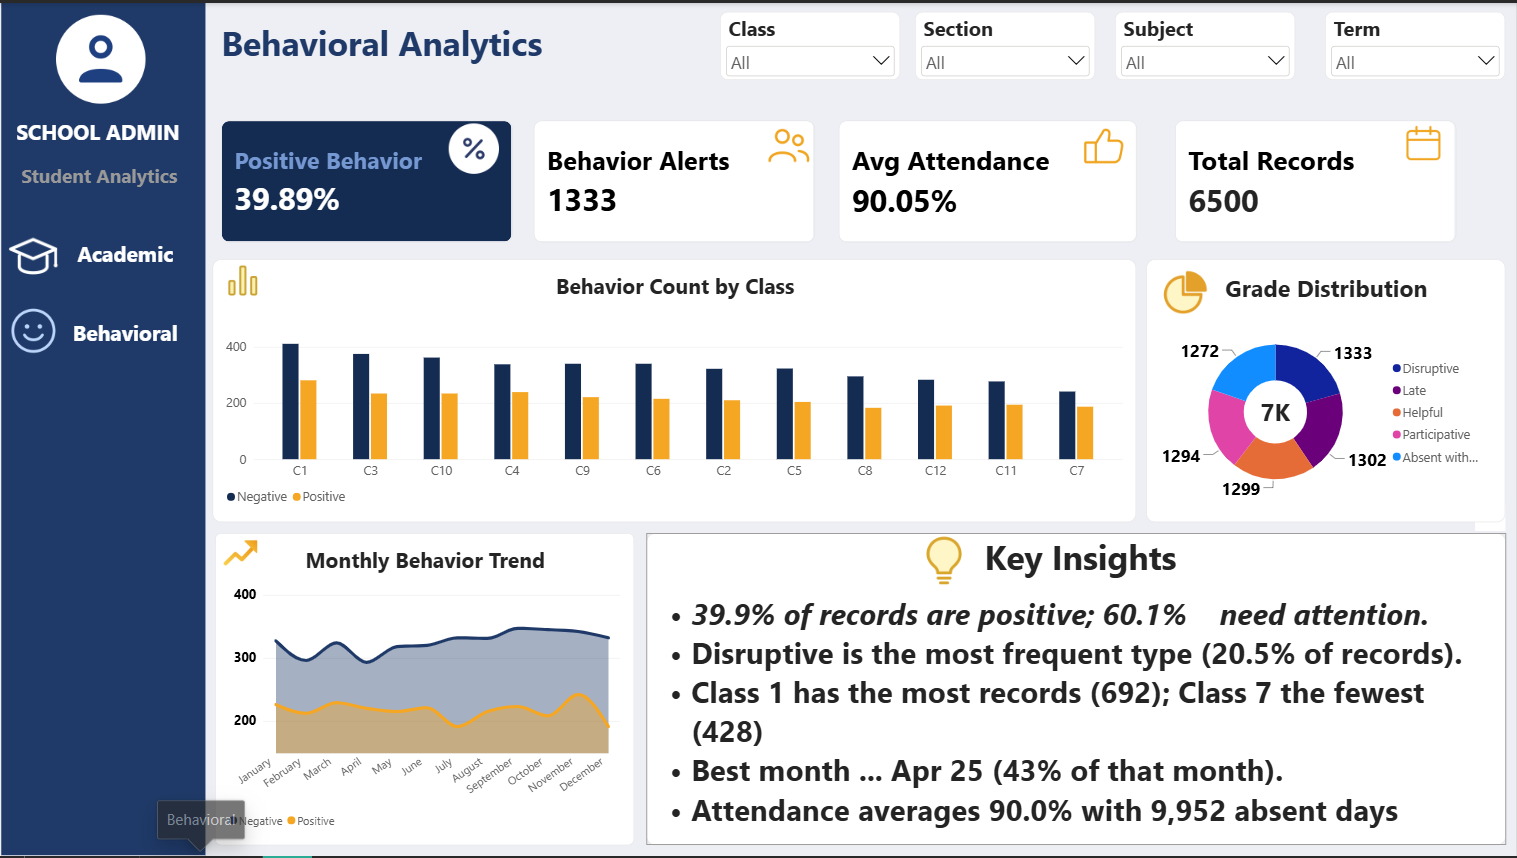

The page's visual inventory and layout, read from the dashboard file:
{"tool":"powerbi","page":{"name":"Behavioral","canvas":[1920,1080],"ordinal":1},"visuals":[{"type":"group","id":"g1","title":"Group 1","box":[0,0,260.7,1078.7],"z":0},{"type":"shape","box":[1.9,0,258.8,1078.7],"z":0,"group":"g1"},{"type":"cardVisual","title":"Average Score","fields":{"Data":["MeasureTable.Positive Behavior %"]},"box":[280.4,149.2,368.5,154.6],"z":0,"group":"g2"},{"type":"cardVisual","title":"Average Score","fields":{"Data":["MeasureTable.Behavior Alerts"]},"box":[676,149.2,356,154.6],"z":0,"group":"g3"},{"type":"cardVisual","title":"Average Score","fields":{"Data":["MeasureTable.Attendance %"]},"box":[1060.7,149.2,377.5,154.6],"z":0,"group":"g5"},{"type":"cardVisual","title":"Average Score","fields":{"Data":["MeasureTable.Behavior Count"]},"box":[1486.7,149.2,356,154.6],"z":0,"group":"g4"},{"type":"clusteredColumnChart","title":"Behavior Count by Class","fields":{"Category":["Students.Class Label"],"Series":["Behavior.Sentiment"],"Y":["MeasureTable.Behavior Count"]},"box":[268.8,324.3,1169.1,332.8],"z":0,"group":"g7"},{"type":"donutChart","title":"Grade Distribution","fields":{"Category":["Behavior.BehaviorType"],"Y":["MeasureTable.Behavior Count"]},"box":[1450.7,324.3,454.4,332.8],"z":0,"group":"g6"},{"type":"areaChart","title":"Monthly Behavior Trend","fields":{"Category":["Calendar.Date.Variation.Date Hierarchy.Month"],"Series":["Behavior.Sentiment"],"Y":["MeasureTable.Behavior Count"]},"box":[272.1,671.4,530.3,395.5],"z":0,"group":"g8"},{"type":"slicer","fields":{"Values":["Scores.Term"]},"box":[1677.3,10.8,228.3,86.3],"z":1000},{"type":"image","box":[7.2,11.1,239.4,120.2],"z":1000,"group":"g1"},{"type":"image","box":[554.6,150.6,92.1,68.3],"z":1000,"group":"g2"},{"type":"image","box":[960.1,150.6,75.5,62.9],"z":1000,"group":"g3"},{"type":"image","box":[1354.3,152.4,80.9,57.5],"z":1000,"group":"g5"},{"type":"image","box":[1765.8,152.4,71.9,52.1],"z":1000,"group":"g4"},{"type":"image","box":[269.7,323.6,73.7,52.1],"z":1000,"group":"g7"},{"type":"image","box":[1463.1,332.2,73.7,68.3],"z":1000,"group":"g6"},{"type":"image","box":[269.7,670.6,73.7,52.1],"z":1000,"group":"g8"},{"type":"slicer","fields":{"Values":["Students.Class"]},"box":[911.5,10.8,228.3,86.3],"z":2000},{"type":"textbox","box":[20.9,143.8,239.7,39.6],"z":2000,"group":"g1"},{"type":"slicer","fields":{"Values":["Students.Section"]},"box":[1157.8,10.8,228.3,86.3],"z":3000},{"type":"textbox","box":[26.6,203.1,226.4,37.8],"z":3000,"group":"g1"},{"type":"slicer","fields":{"Values":["Scores.Subject"]},"box":[1411.2,10.8,228.3,86.3],"z":4000},{"type":"image","box":[0,284,83.7,77.3],"z":4000,"group":"g1"},{"type":"textbox","box":[280.4,19.8,440.4,68.3],"z":5000},{"type":"image","box":[7.6,384.7,68.5,61.1],"z":5000,"group":"g1"},{"type":"group","id":"g2","title":"Group 2","box":[280.4,149.2,368.5,154.6],"z":6000},{"type":"pageNavigator","box":[57.1,271.5,203.6,192.4],"z":6000,"group":"g1"},{"type":"group","id":"g3","title":"Group 2","box":[676,149.2,359.6,154.6],"z":7000},{"type":"group","id":"g4","title":"Group 2","box":[1486.7,149.2,356,154.6],"z":8000},{"type":"group","id":"g5","title":"Group 2","box":[1060.7,149.2,377.5,154.6],"z":9000},{"type":"textbox","box":[818,670.6,1087.6,395.5],"z":10000},{"type":"image","box":[1157.8,670.6,73.7,68.3],"z":11000},{"type":"group","id":"g6","title":"Group 3","box":[1450.7,324.3,454.4,332.8],"z":12000},{"type":"group","id":"g7","title":"Group 4","box":[268.8,323.6,1169.1,333.5],"z":13000},{"type":"group","id":"g8","title":"Group 5","box":[269.7,670.6,532.7,396.3],"z":14000}]}

Visuals, with their boxes on the page's 1920x1080 design canvas (x1, y1, x2, y2). These are canvas units, not pixel positions in the 1517x858 screenshot, which may show the page scaled, cropped or inside an application window:
"Group 1" group: select_region(0, 0, 261, 1079)
shape: select_region(2, 0, 261, 1079)
"Average Score" cardVisual: select_region(280, 149, 649, 304)
"Average Score" cardVisual: select_region(676, 149, 1032, 304)
"Average Score" cardVisual: select_region(1061, 149, 1438, 304)
"Average Score" cardVisual: select_region(1487, 149, 1843, 304)
"Behavior Count by Class" clusteredColumnChart: select_region(269, 324, 1438, 657)
"Grade Distribution" donutChart: select_region(1451, 324, 1905, 657)
"Monthly Behavior Trend" areaChart: select_region(272, 671, 802, 1067)
slicer - Scores.Term: select_region(1677, 11, 1906, 97)
image: select_region(7, 11, 247, 131)
image: select_region(555, 151, 647, 219)
image: select_region(960, 151, 1036, 214)
image: select_region(1354, 152, 1435, 210)
image: select_region(1766, 152, 1838, 204)
image: select_region(270, 324, 343, 376)
image: select_region(1463, 332, 1537, 400)
image: select_region(270, 671, 343, 723)
slicer - Students.Class: select_region(912, 11, 1140, 97)
textbox: select_region(21, 144, 261, 183)
slicer - Students.Section: select_region(1158, 11, 1386, 97)
textbox: select_region(27, 203, 253, 241)
slicer - Scores.Subject: select_region(1411, 11, 1640, 97)
image: select_region(0, 284, 84, 361)
textbox: select_region(280, 20, 721, 88)
image: select_region(8, 385, 76, 446)
"Group 2" group: select_region(280, 149, 649, 304)
pageNavigator: select_region(57, 272, 261, 464)
"Group 2" group: select_region(676, 149, 1036, 304)
"Group 2" group: select_region(1487, 149, 1843, 304)
"Group 2" group: select_region(1061, 149, 1438, 304)
textbox: select_region(818, 671, 1906, 1066)
image: select_region(1158, 671, 1232, 739)
"Group 3" group: select_region(1451, 324, 1905, 657)
"Group 4" group: select_region(269, 324, 1438, 657)
"Group 5" group: select_region(270, 671, 802, 1067)
